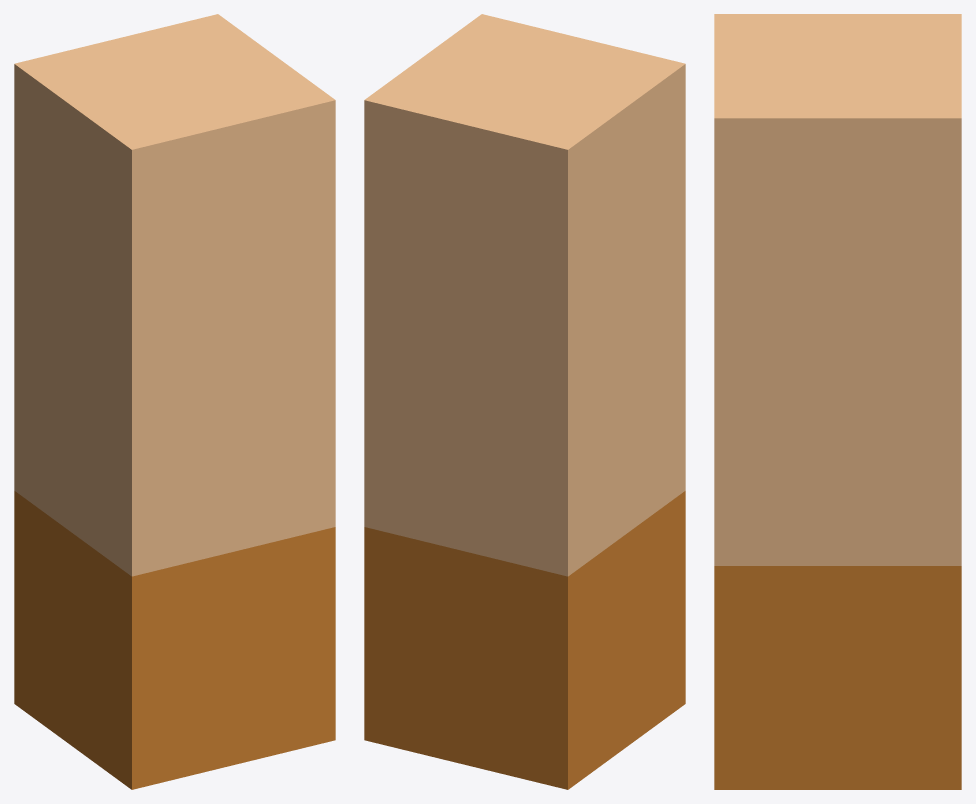
File: PlayerFox_RArm.obj
3 views of the same model, side by side, from view 1: azimuth 30°, elevation 25°; view 2: azimuth 150°, elevation 25°; view 3: azimuth 270°, elevation 25° (orthographic). The views are drawn at different scales.
Size of the model in its own units: 0.1 by 0.3 by 0.1.
Materials: 1 (1 with a texture image).
